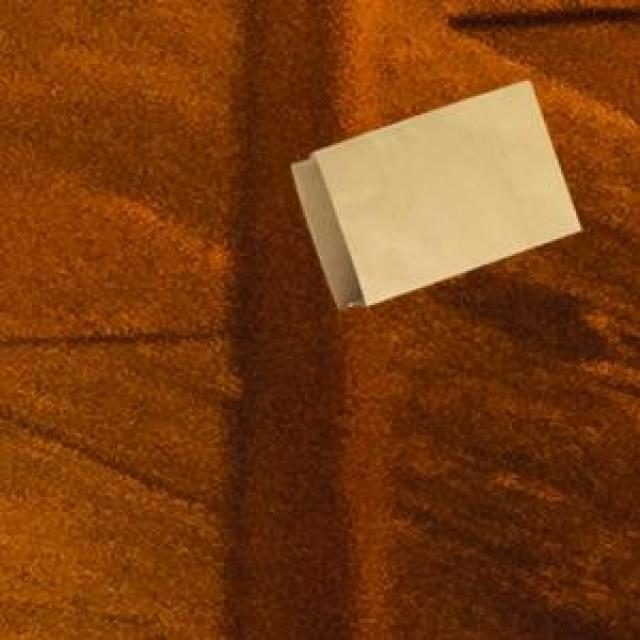paper: (288, 77, 576, 305)
